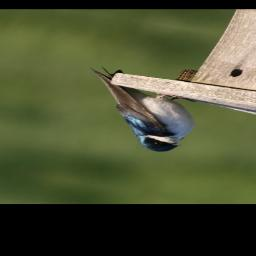Swallow: (48, 61, 224, 156)
